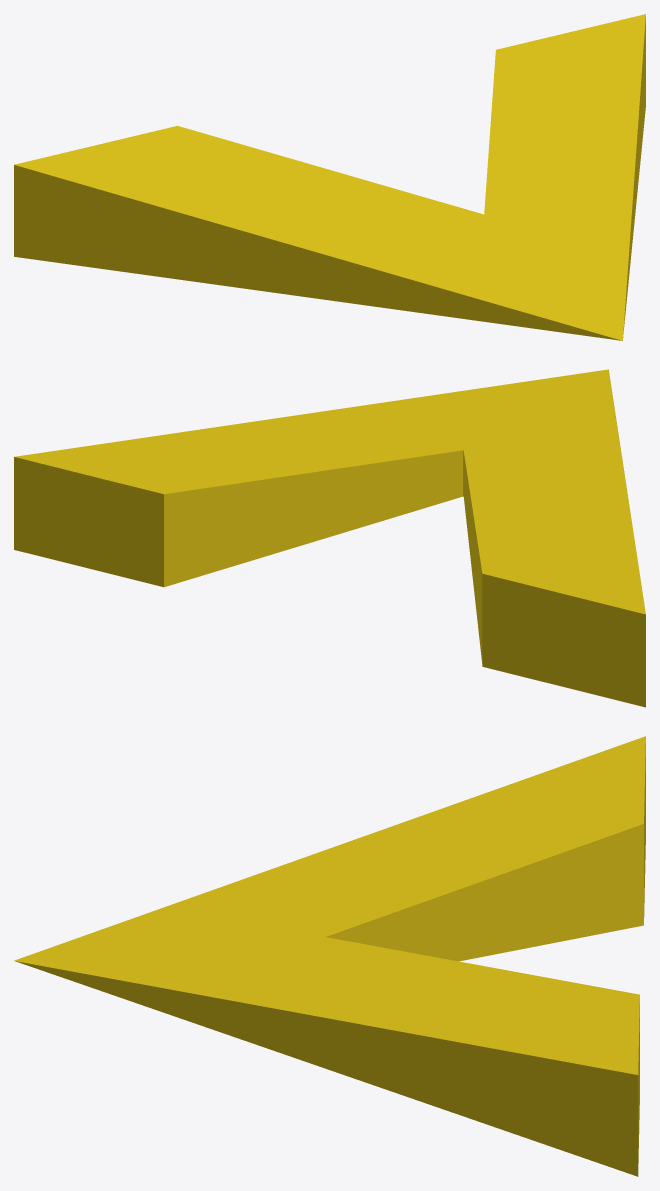
File: arrow.glb
The picture shows the model from 3 angles, top to bottom: view 1: azimuth 30°, elevation 25°; view 2: azimuth 150°, elevation 25°; view 3: azimuth 270°, elevation 25°; orthographic projection. The views are drawn at different scales.
Visible parts, largest first — view 1: Cube.013; view 2: Cube.013; view 3: Cube.013.
Part boxes in pixels (x1=…): Cube.013: x1=14, y1=14, x2=645, y2=340; Cube.013: x1=14, y1=369, x2=645, y2=707; Cube.013: x1=14, y1=736, x2=645, y2=1176.
Size of the model in its own units: 1.88 by 0.2635 by 1.48.
